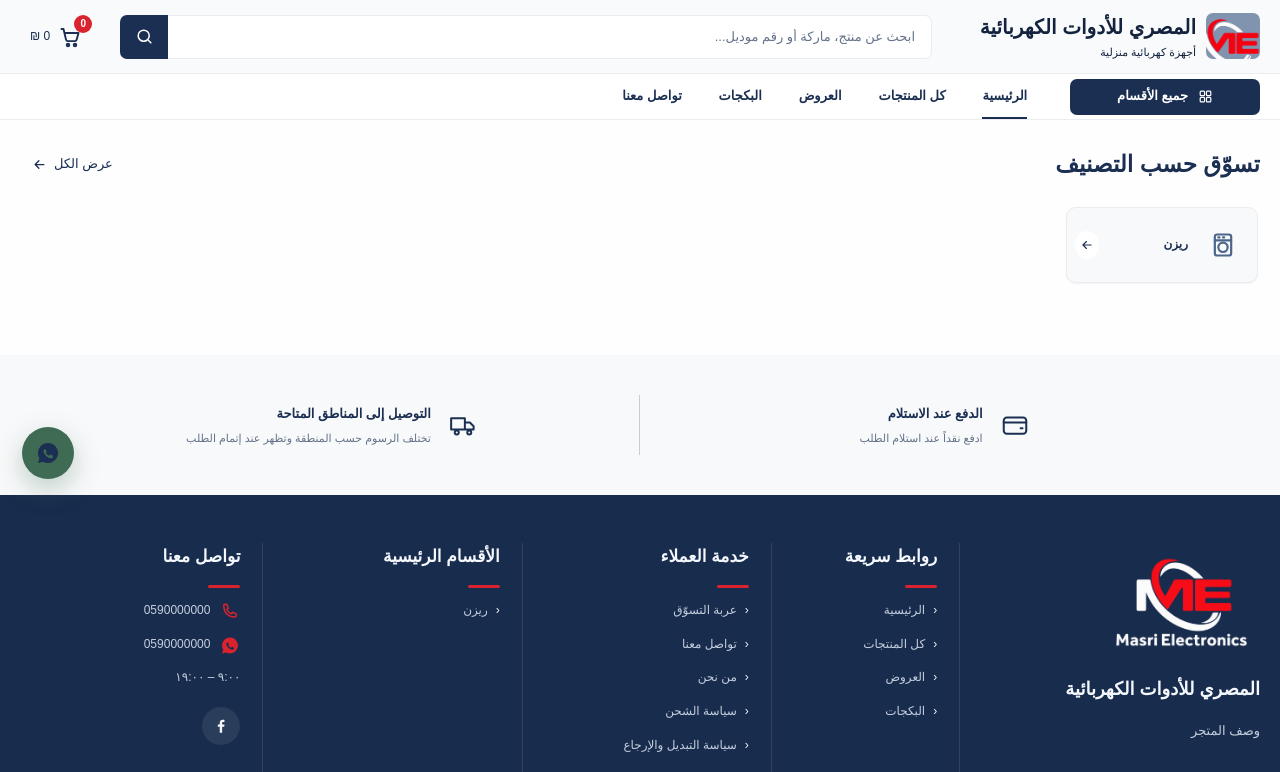
Test: search › suggests products as the visitor types and routes to the results page
Type "ريزن" into the dropdown named "ابحث في المتجر" at (526, 36), box [120, 14, 932, 58]
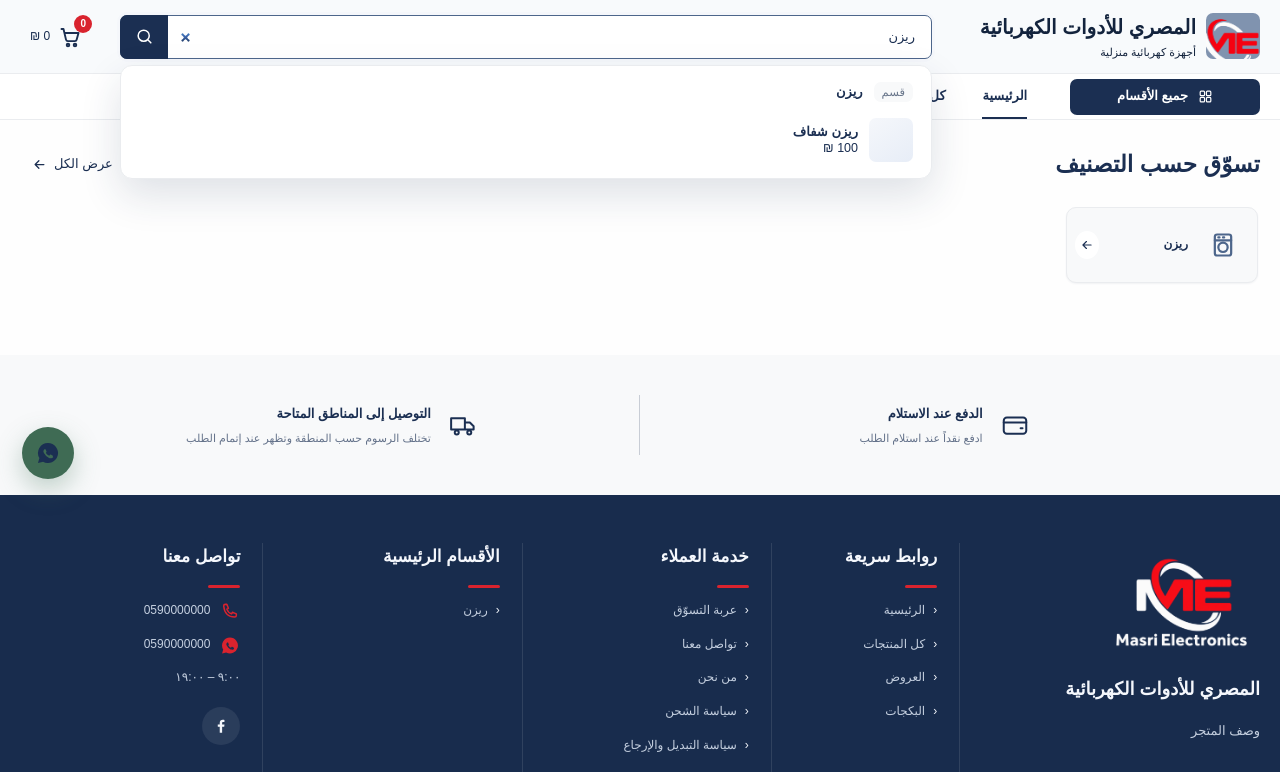
Result: the option "ريزن شفاف 100 ₪" is shown
Click the option "ريزن شفاف 100 ₪" at (891, 140), box [129, 110, 923, 170]
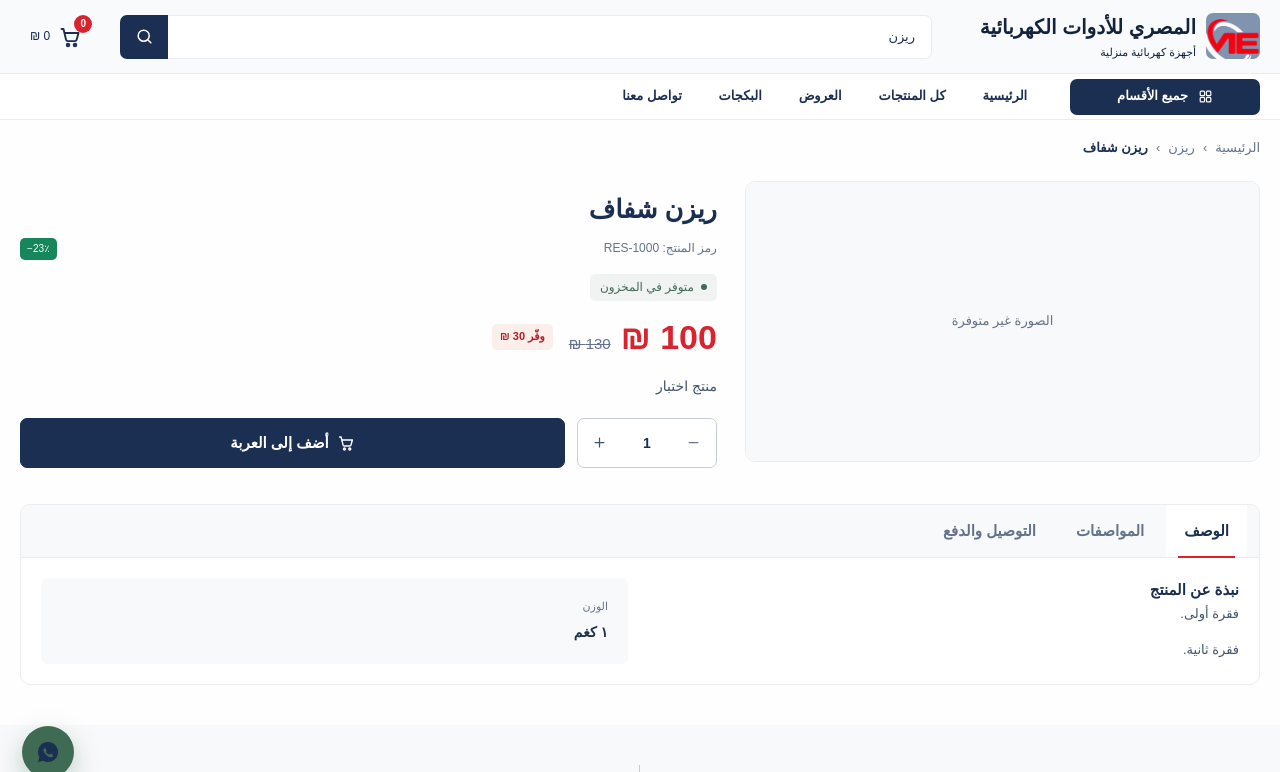
Result: the heading "ريزن شفاف" is shown at [589, 195, 717, 223]
